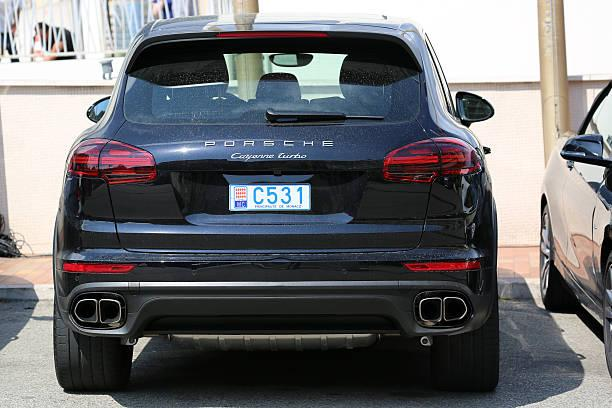porsche: (197, 132, 340, 154)
